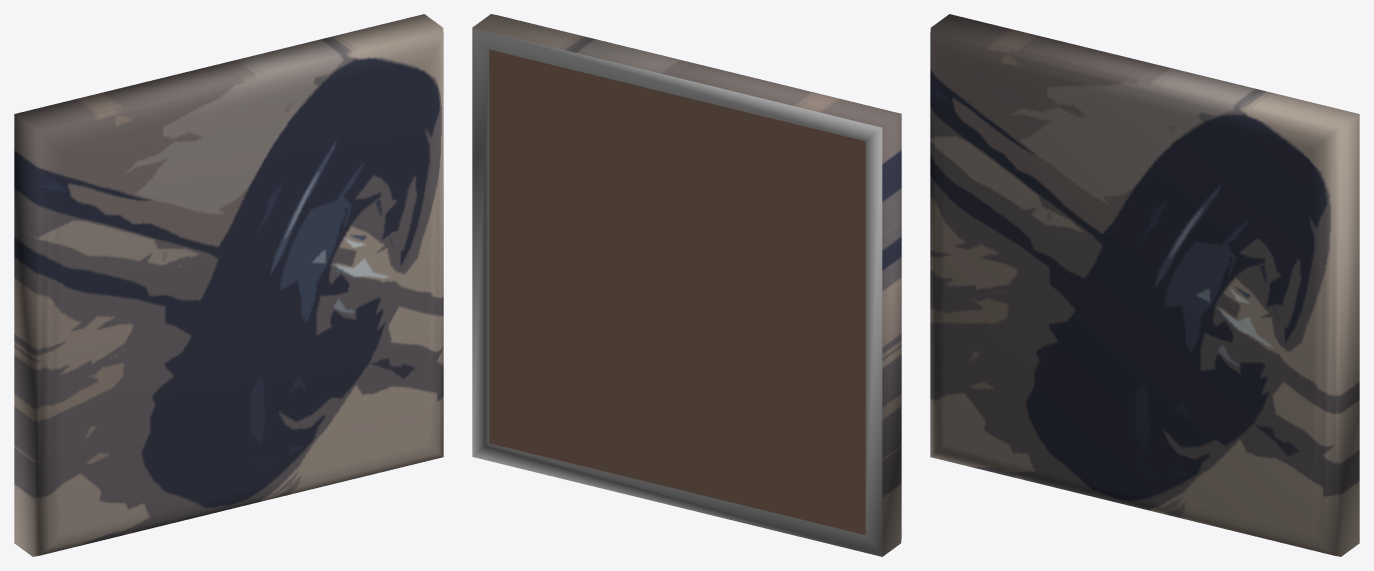
The model's file is painting.glb.
3 views of the same model, side by side, from view 1: azimuth 30°, elevation 25°; view 2: azimuth 150°, elevation 25°; view 3: azimuth 330°, elevation 25° (orthographic).
Parts seen in each view (by area): view 1: Painting_Small; view 2: Painting_Small; view 3: Painting_Small.
Part boxes in pixels (<box>): Painting_Small: <box>14,14,443,556</box>; Painting_Small: <box>472,14,901,556</box>; Painting_Small: <box>930,14,1359,556</box>.
Bounding box in the file's own units: 0.4077 × 0.4077 × 0.0439.
2 materials, 2 textured.
